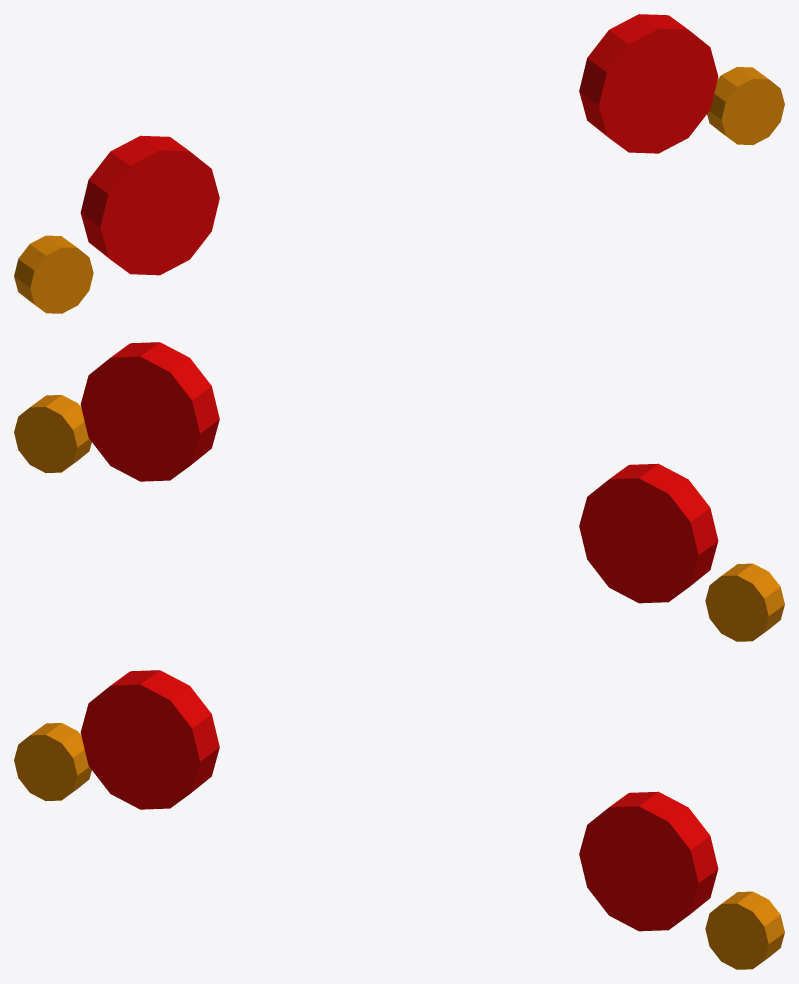
File: Back_Lights_Basic.glb
The picture shows the model from 3 angles, top to bottom: view 1: azimuth 30°, elevation 25°; view 2: azimuth 150°, elevation 25°; view 3: azimuth 330°, elevation 25°; orthographic projection.
Visible parts, largest first — view 1: Brake_Lights_Basic, Turn_Light_Left_Basic.001, Turn_Light_Right_Basic.001; view 2: Brake_Lights_Basic, Turn_Light_Left_Basic.001, Turn_Light_Right_Basic.001; view 3: Brake_Lights_Basic, Turn_Light_Right_Basic.001, Turn_Light_Left_Basic.001.
Boxes of the visible parts, left/top/right/bottom form: Brake_Lights_Basic: left=80, top=14, right=718, bottom=275; Turn_Light_Left_Basic.001: left=14, top=235, right=93, bottom=313; Turn_Light_Right_Basic.001: left=707, top=67, right=784, bottom=144; Brake_Lights_Basic: left=80, top=342, right=718, bottom=603; Turn_Light_Left_Basic.001: left=705, top=563, right=784, bottom=641; Turn_Light_Right_Basic.001: left=14, top=395, right=91, bottom=472; Brake_Lights_Basic: left=80, top=670, right=718, bottom=931; Turn_Light_Right_Basic.001: left=705, top=891, right=784, bottom=969; Turn_Light_Left_Basic.001: left=14, top=723, right=91, bottom=800.
Bounding box in the file's own units: 1.07 × 0.1918 × 0.0487.
